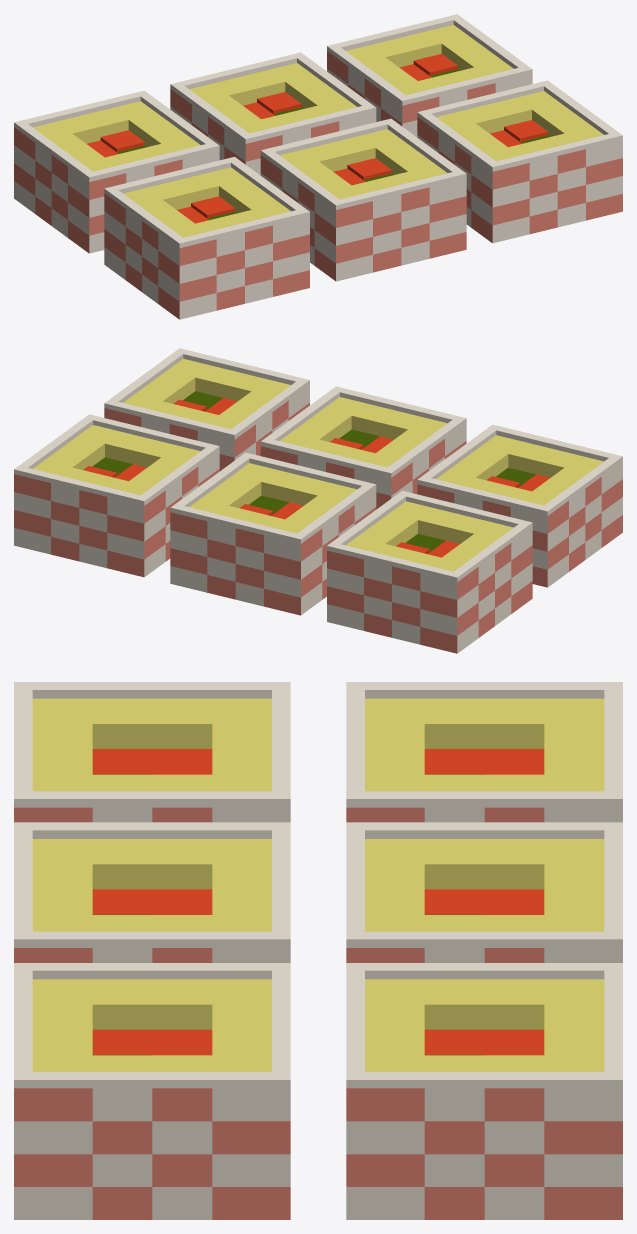
File: sushi3.glb
3 views of the same model, one above another, from view 1: azimuth 30°, elevation 25°; view 2: azimuth 150°, elevation 25°; view 3: azimuth 270°, elevation 25° (orthographic). The views are drawn at different scales.
Parts seen in each view (by area): view 1: Sushi.001; view 2: Sushi.001; view 3: Sushi.001.
Part boxes in pixels (x1,y1,x2,y2): Sushi.001: [14, 14, 622, 319]; Sushi.001: [14, 348, 622, 653]; Sushi.001: [14, 682, 622, 1219].
Size of the model in its own units: 3.87 by 0.6361 by 2.51.
